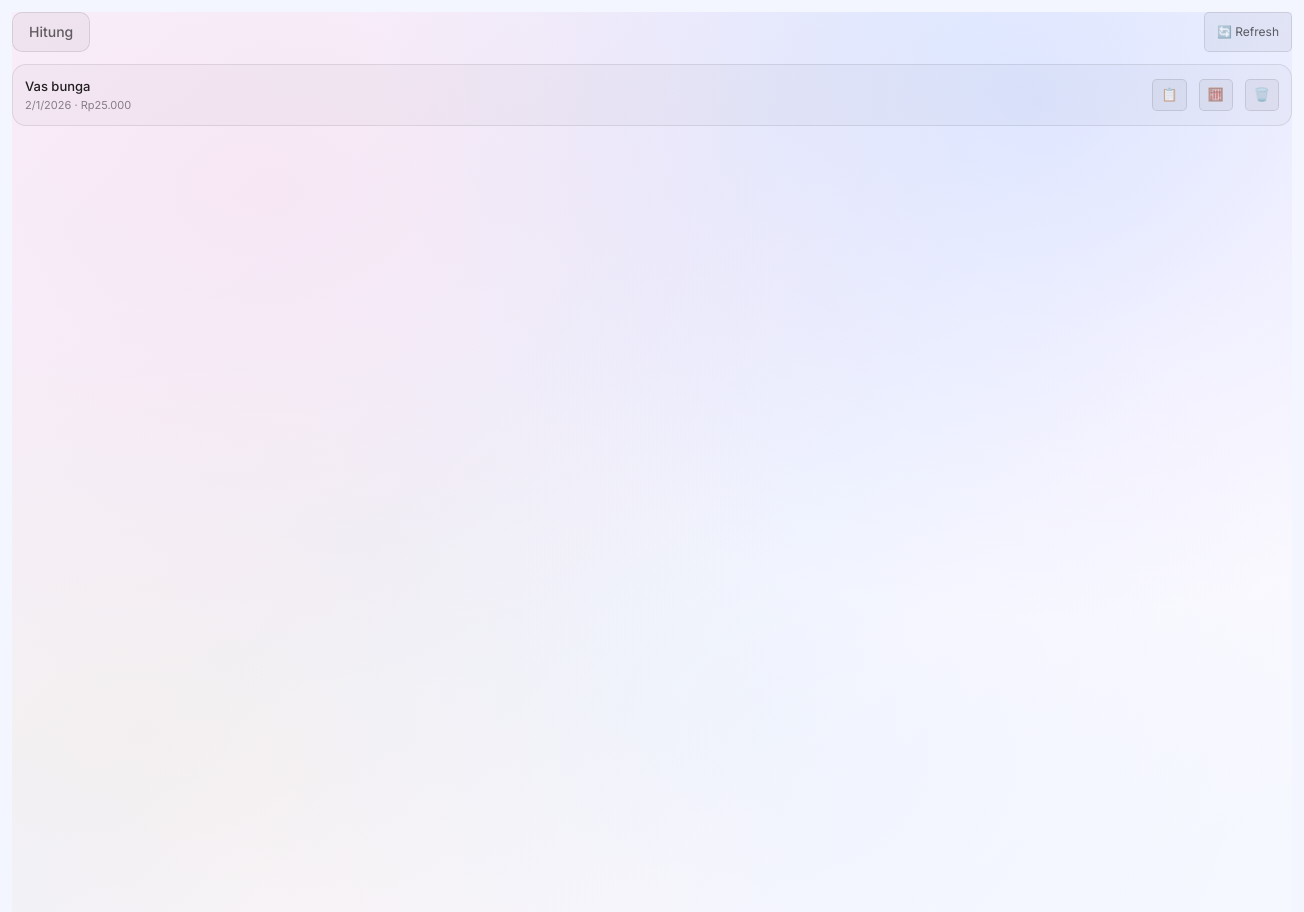
RiwayatList: Duplikat & Hitung ulang › Duplikat: putKalkulasi ditolak → pesan error, list tak di-refresh
The image size is (1304, 912).
Expected: the text "Vas bunga" is shown, [25,78,90,94]
Click the button named "Duplikat" at point(1169, 95), box [1152,79,1186,111]
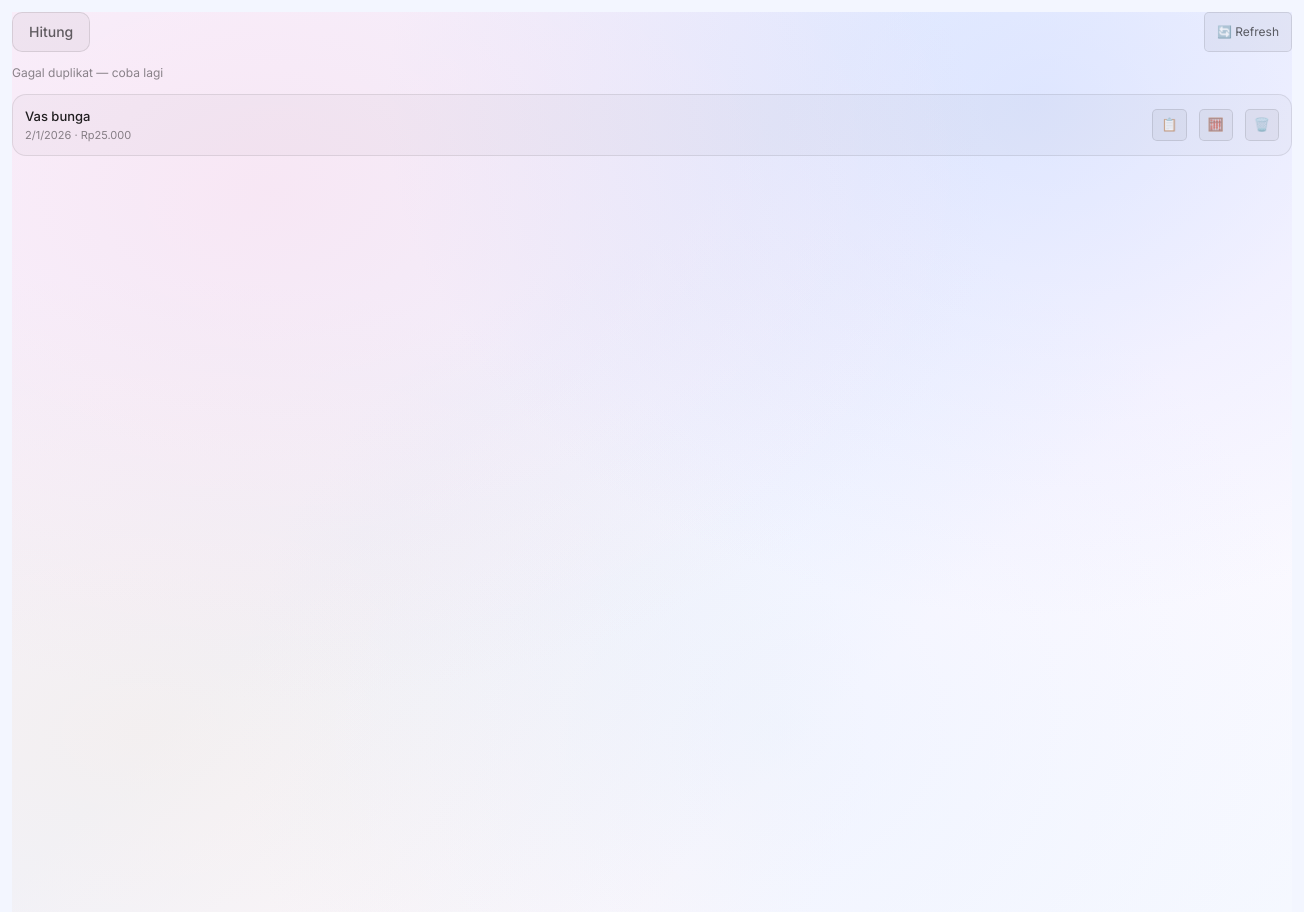
Expected: the text "Gagal duplikat — coba lagi" is shown, [12,65,163,80]
